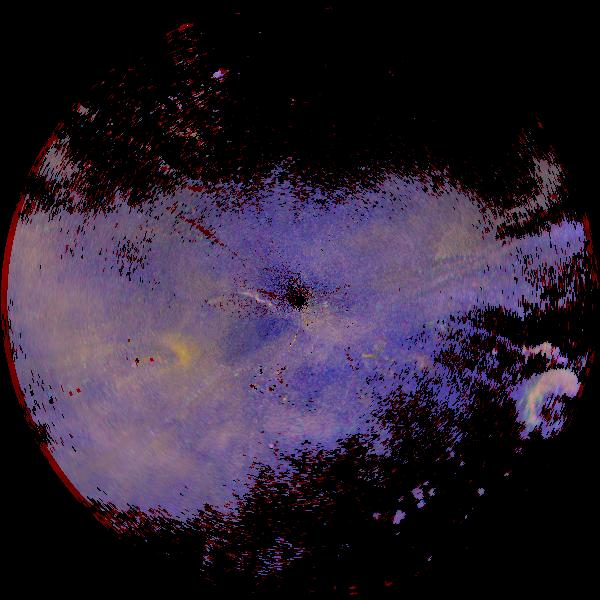roost: (107, 309, 221, 423)
